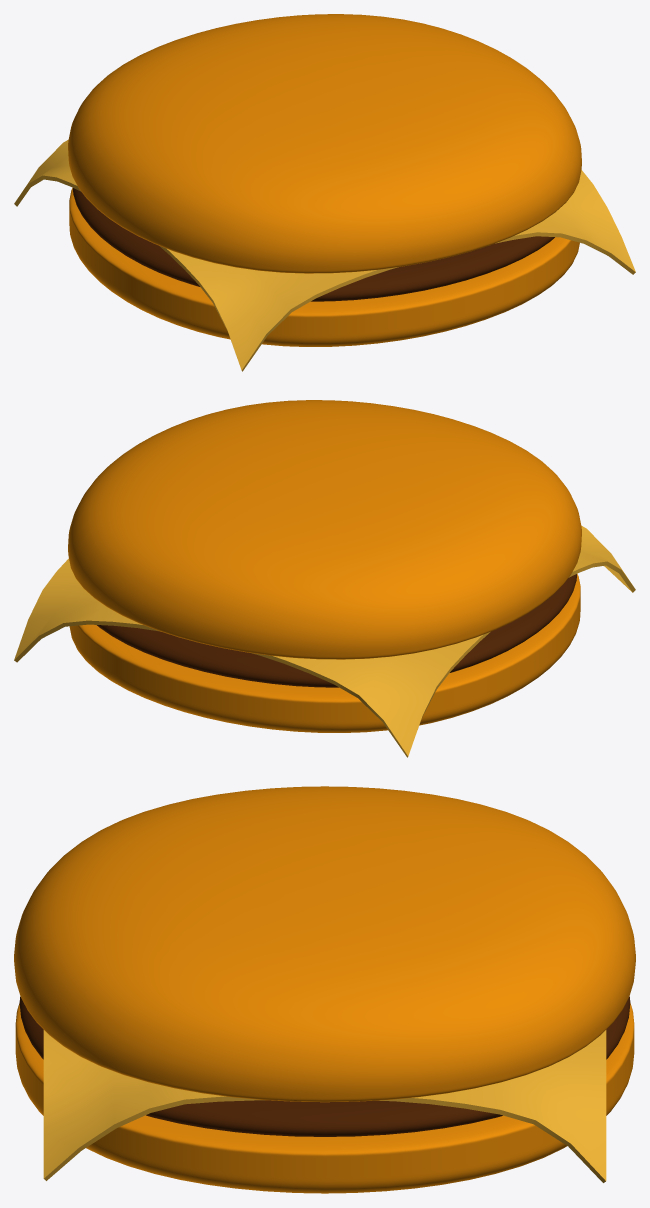
Rendered from hamburger.glb.
The picture shows the model from 3 angles, top to bottom: view 1: azimuth 30°, elevation 25°; view 2: azimuth 150°, elevation 25°; view 3: azimuth 270°, elevation 25°; orthographic projection. The views are drawn at different scales.
Parts seen in each view (by area): view 1: Cube.002, Cube, Plane, Cube.001; view 2: Cube.002, Cube, Plane, Cube.001; view 3: Cube.002, Cube, Plane, Cube.001.
Part boxes in pixels (x1,y1,x2,y2): Cube.002: (68, 14, 581, 273); Cube: (69, 188, 579, 346); Plane: (14, 139, 635, 371); Cube.001: (73, 188, 554, 301); Cube.002: (68, 400, 581, 659); Cube: (69, 574, 580, 732); Plane: (14, 525, 635, 757); Cube.001: (97, 574, 576, 687); Cube.002: (14, 786, 635, 1102); Cube: (15, 1003, 634, 1193); Plane: (43, 1030, 606, 1182); Cube.001: (19, 996, 630, 1136).
Size of the model in its own units: 9.21 by 3.59 by 9.21.
